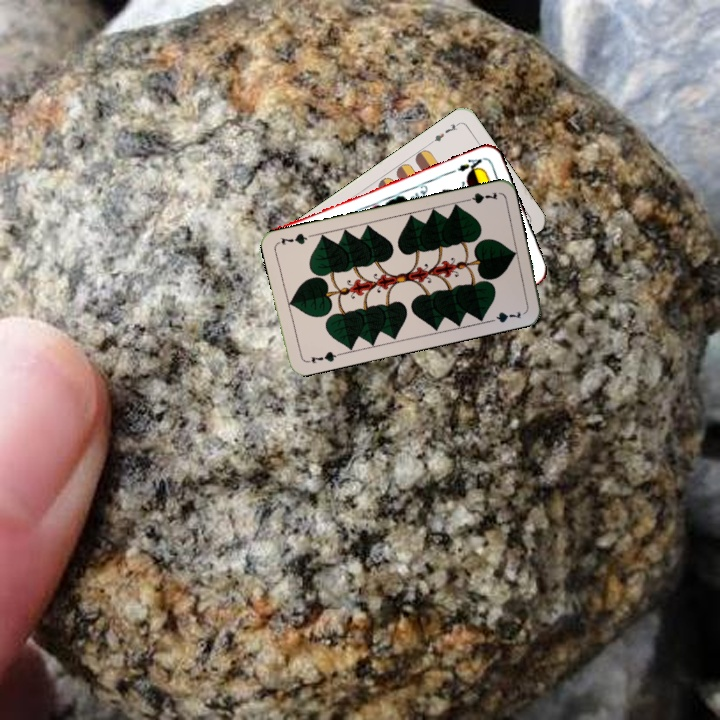E7: (426, 118, 462, 146)
EA: (453, 153, 487, 176)
G7: (302, 347, 342, 366), (459, 188, 500, 206)
